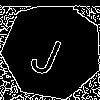J: (27, 25, 69, 78)
